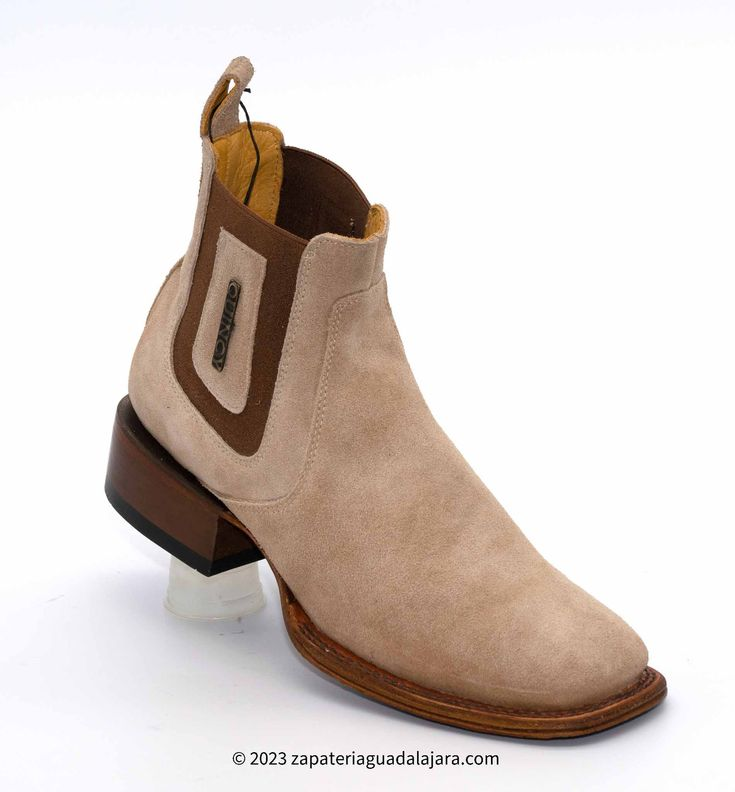gamuza: (128, 124, 650, 710)
